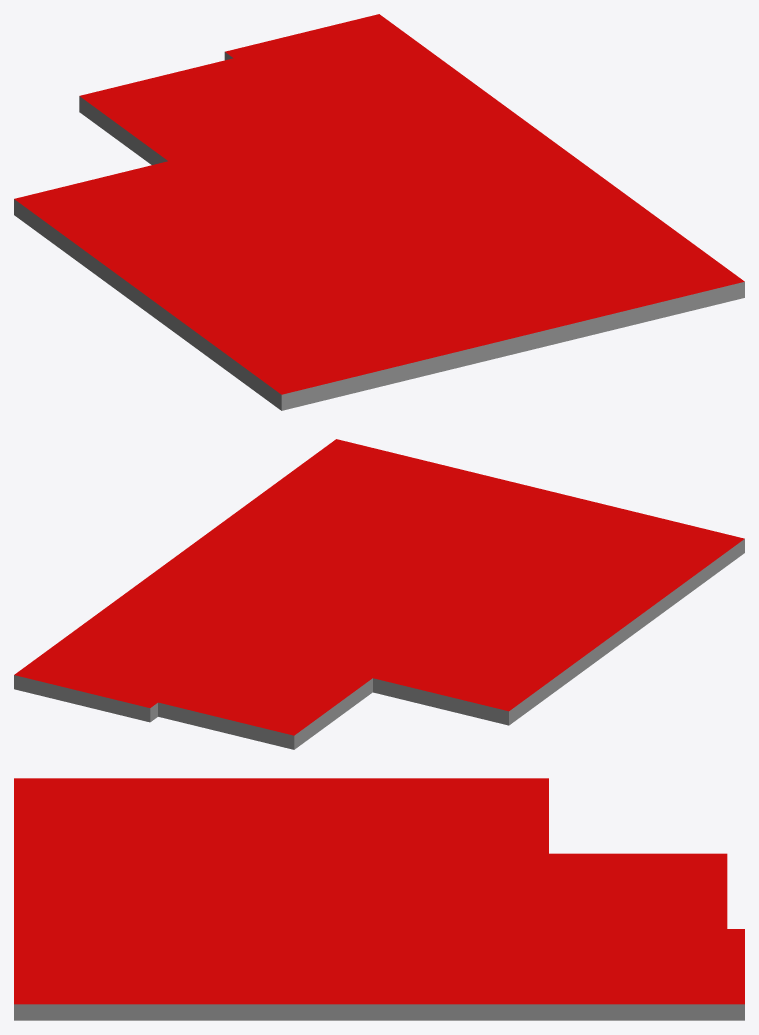
File: BathroomFloor.fbx
The picture shows the model from 3 angles, top to bottom: view 1: azimuth 30°, elevation 25°; view 2: azimuth 150°, elevation 25°; view 3: azimuth 270°, elevation 25°; orthographic projection. The views are drawn at different scales.
Visible parts, largest first — view 1: pCube74; view 2: pCube74; view 3: pCube74.
Part boxes in pixels (x1,y1,x2,y2): pCube74: [14, 14, 744, 410]; pCube74: [14, 439, 744, 749]; pCube74: [14, 778, 744, 1020].
Bounding box in the file's own units: 300 × 10 × 410.
